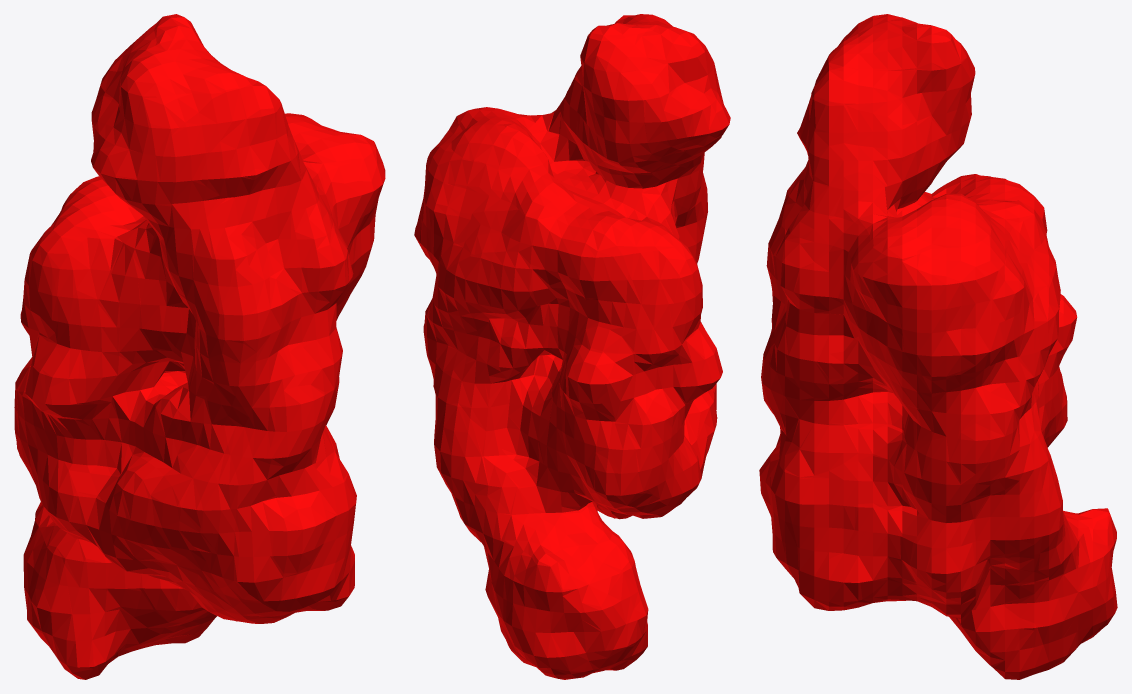
The model's file is moeA_coarse.dae.
3 views of the same model, side by side, from view 1: azimuth 30°, elevation 25°; view 2: azimuth 150°, elevation 25°; view 3: azimuth 270°, elevation 25° (orthographic). The views are drawn at different scales.
Visible parts, largest first — view 1: moeA; view 2: moeA; view 3: moeA.
Boxes of the visible parts, <box> form: moeA: <box>14,14,385,679</box>; moeA: <box>414,14,730,679</box>; moeA: <box>759,14,1117,679</box>.
Size of the model in its own units: 61.76 by 122 by 62.13.
